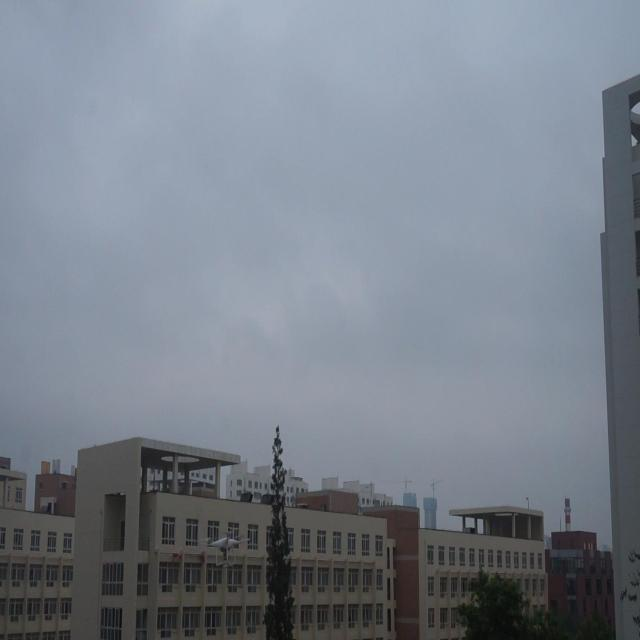drone: (208, 534, 245, 569)
